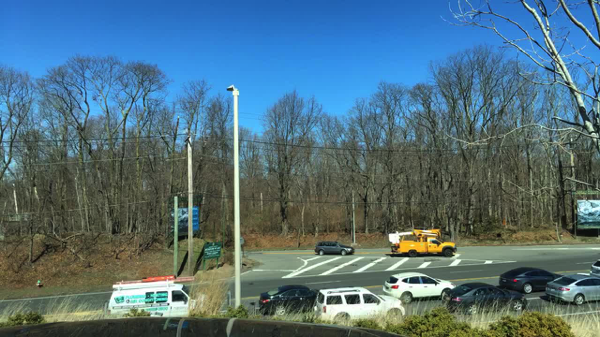car: (103, 275, 204, 321), (317, 287, 406, 329), (441, 282, 527, 314), (383, 271, 457, 305), (498, 266, 568, 296), (258, 284, 320, 317), (543, 274, 599, 305), (314, 240, 353, 256), (589, 258, 599, 279)
traffic sign: (206, 243, 221, 258)
truck: (386, 228, 456, 258)
